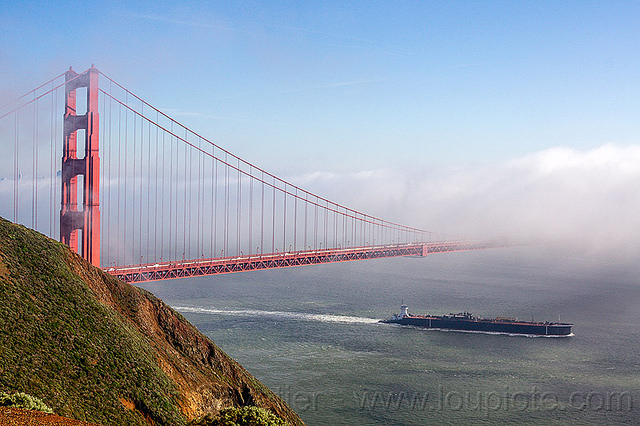tanker: (387, 297, 576, 337)
